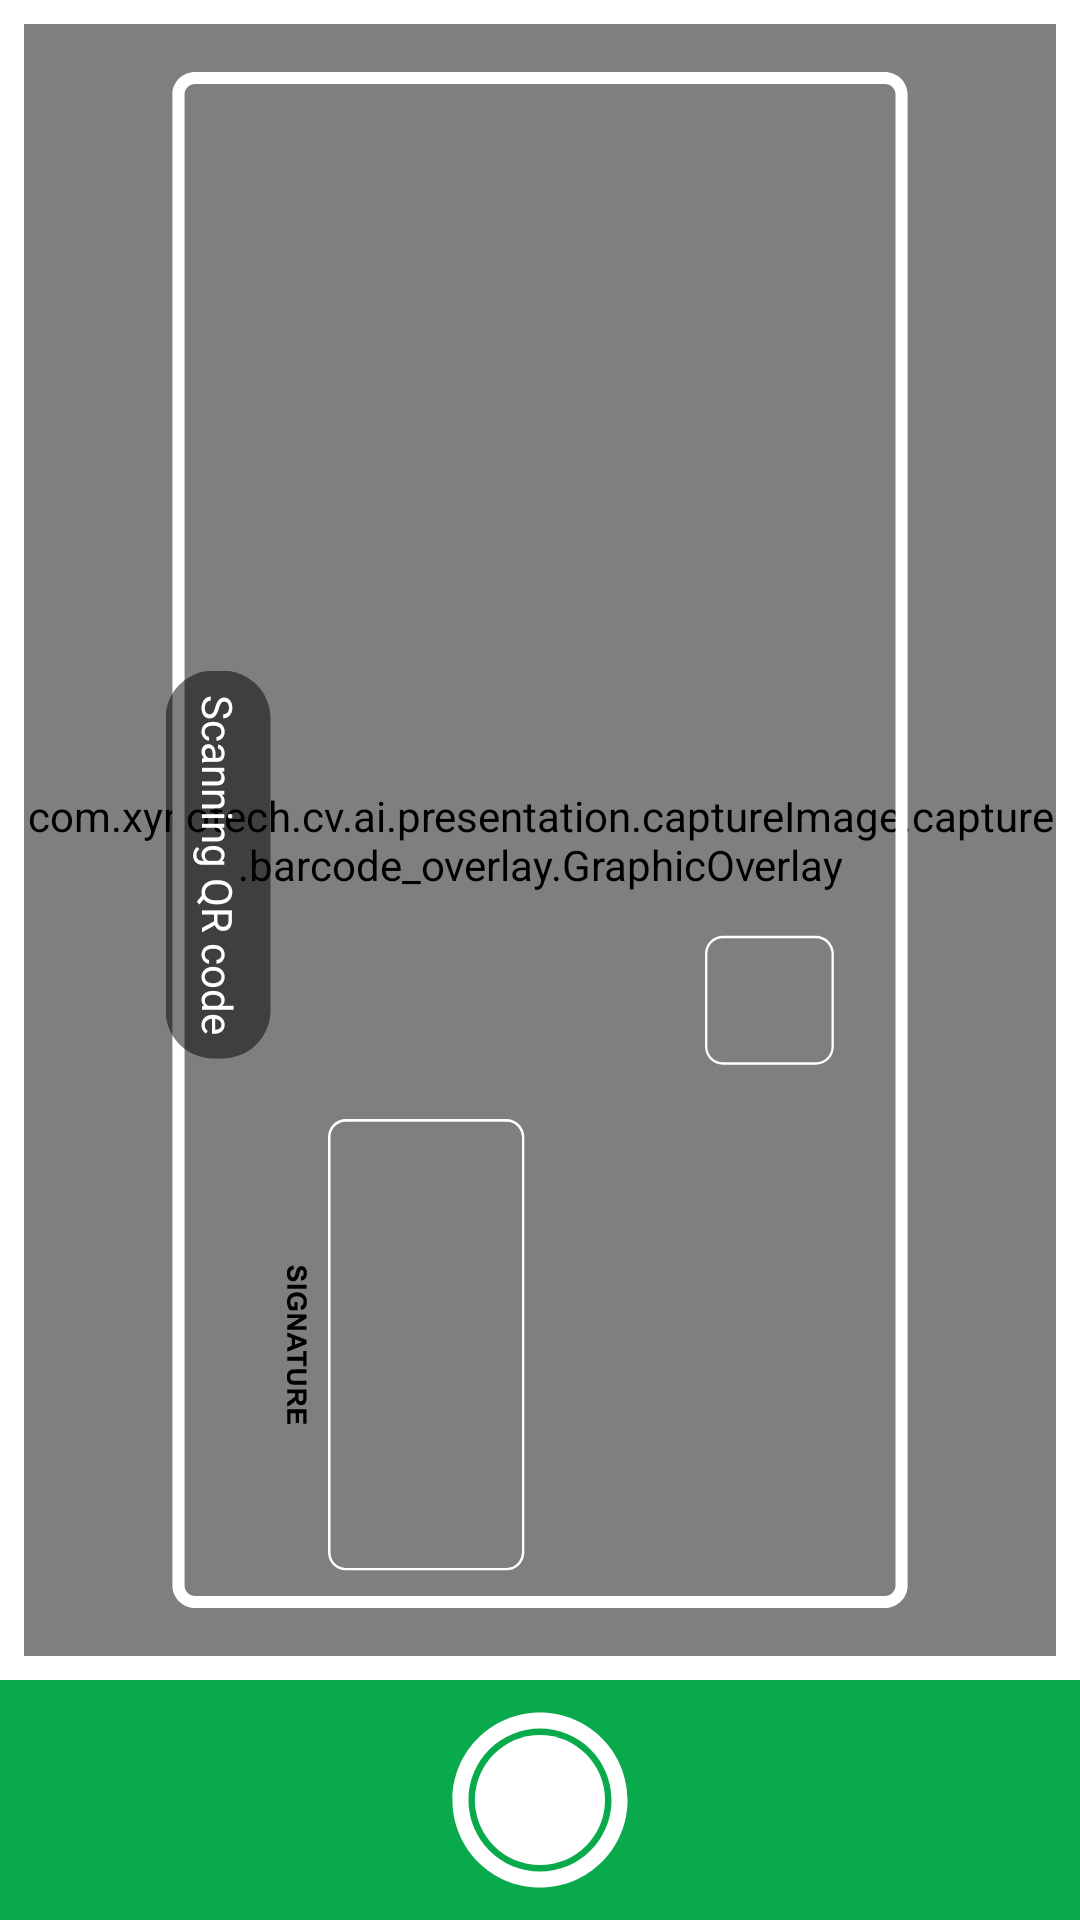

Icon click points for this 1080*1920 phone screenshot, format [x,y]:
Take Picture: [540,1800]
